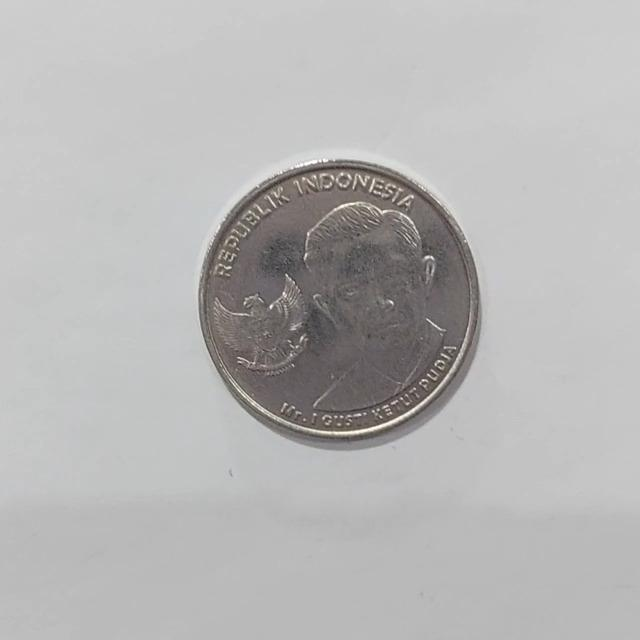Rp100: (196, 154, 482, 447)
